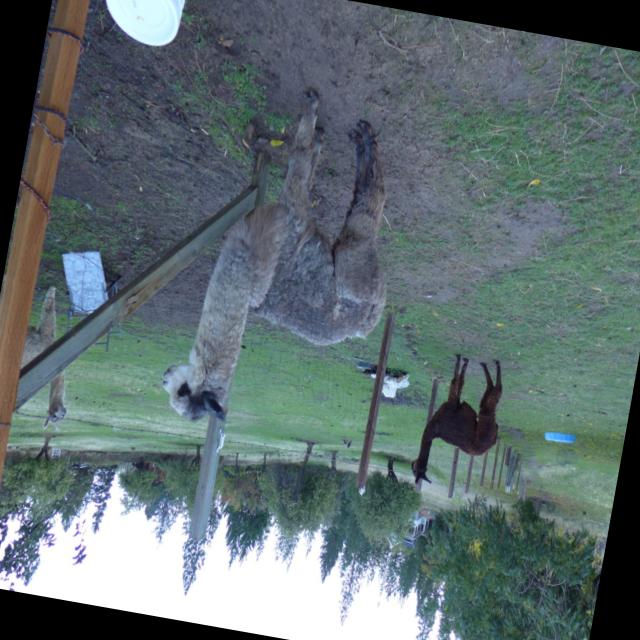alpaca: (158, 76, 418, 450), (408, 347, 512, 498), (10, 282, 89, 428)
